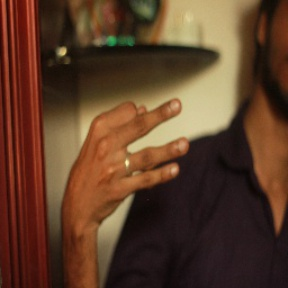K: (62, 96, 191, 209)
